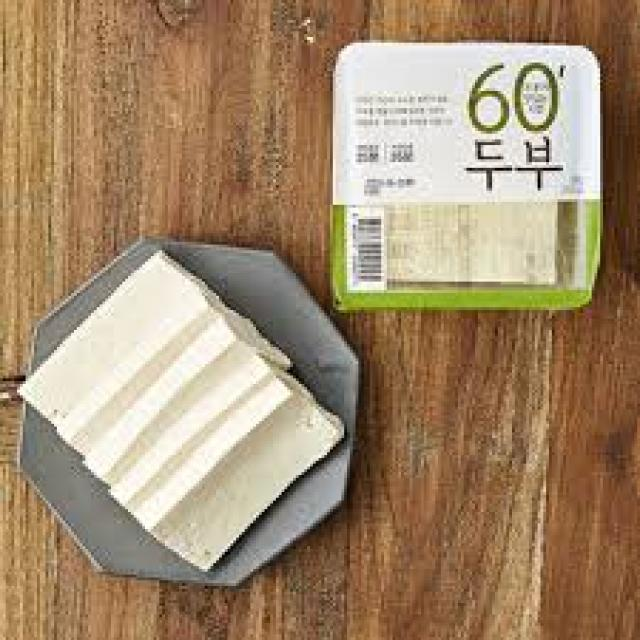tofu: (18, 260, 350, 588), (315, 35, 618, 328)
